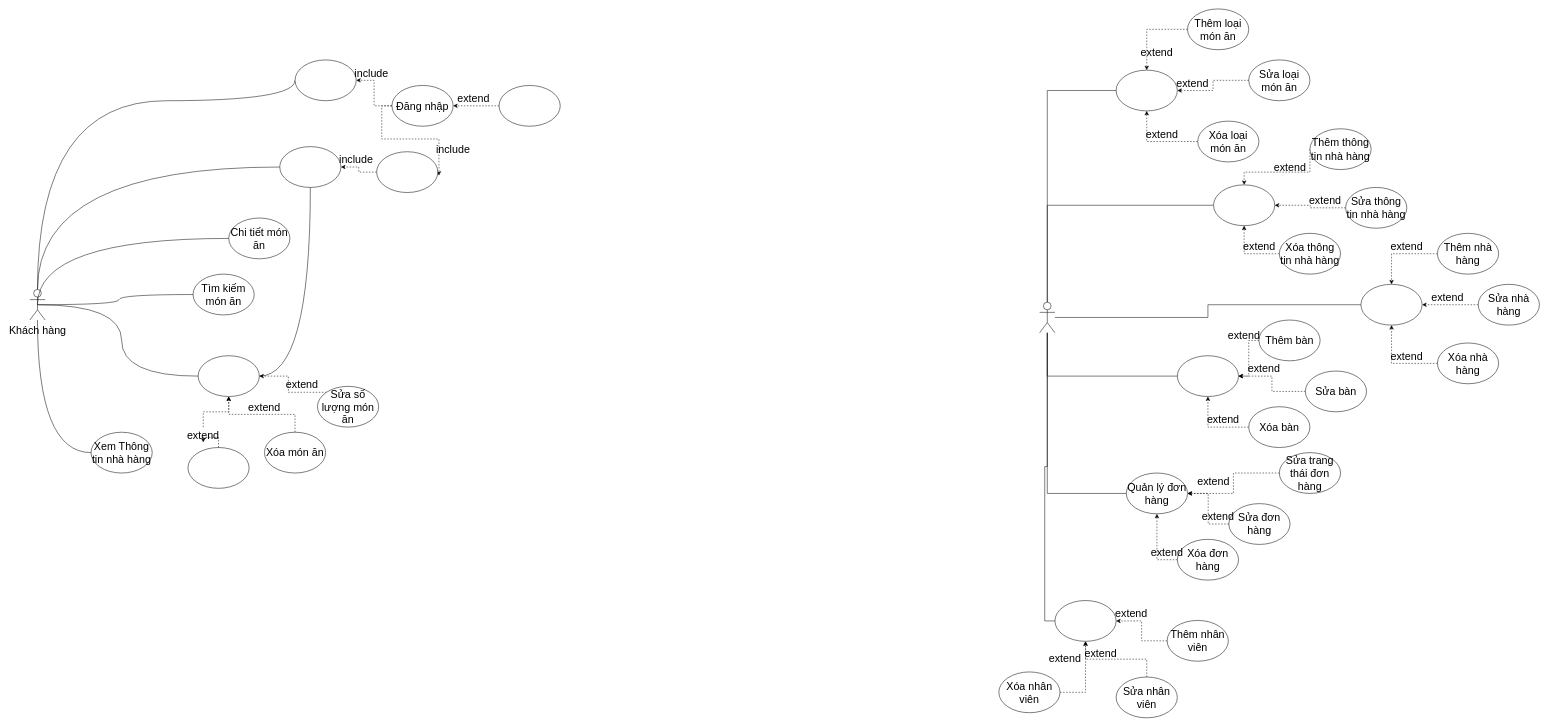
Some shapes in this 1548 by 727 pixel diagram are drawn without their labels. The box of each missing label's shape, as (x1, y1, x2, y2) in pixels:
Admin: (1039, 302, 1055, 333)
Lịch sử đặt bàn: (295, 59, 356, 101)
Quản lý bàn: (1177, 355, 1239, 397)
Quản lý giỏ hàng: (198, 355, 259, 397)
Quản lý Loại món ăn: (1116, 70, 1177, 111)
Quản lý nhà hàng: (1360, 284, 1422, 325)
Quản lý nhân viên: (1054, 600, 1116, 641)
Quản lý thông tin nhà hàng: (1213, 184, 1275, 226)
Thanh toán onl: (279, 146, 341, 187)
Thêm món ăn: (187, 447, 249, 488)
Đăng ký: (499, 85, 560, 126)
Đặt bàn: (376, 151, 438, 193)
